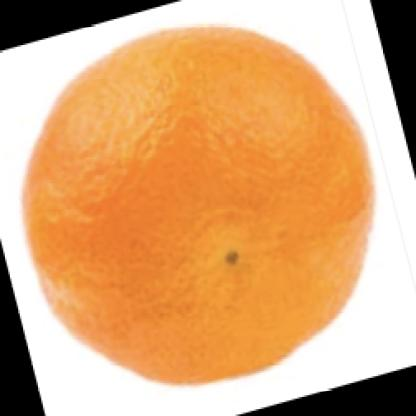fresh: (24, 27, 377, 386)
